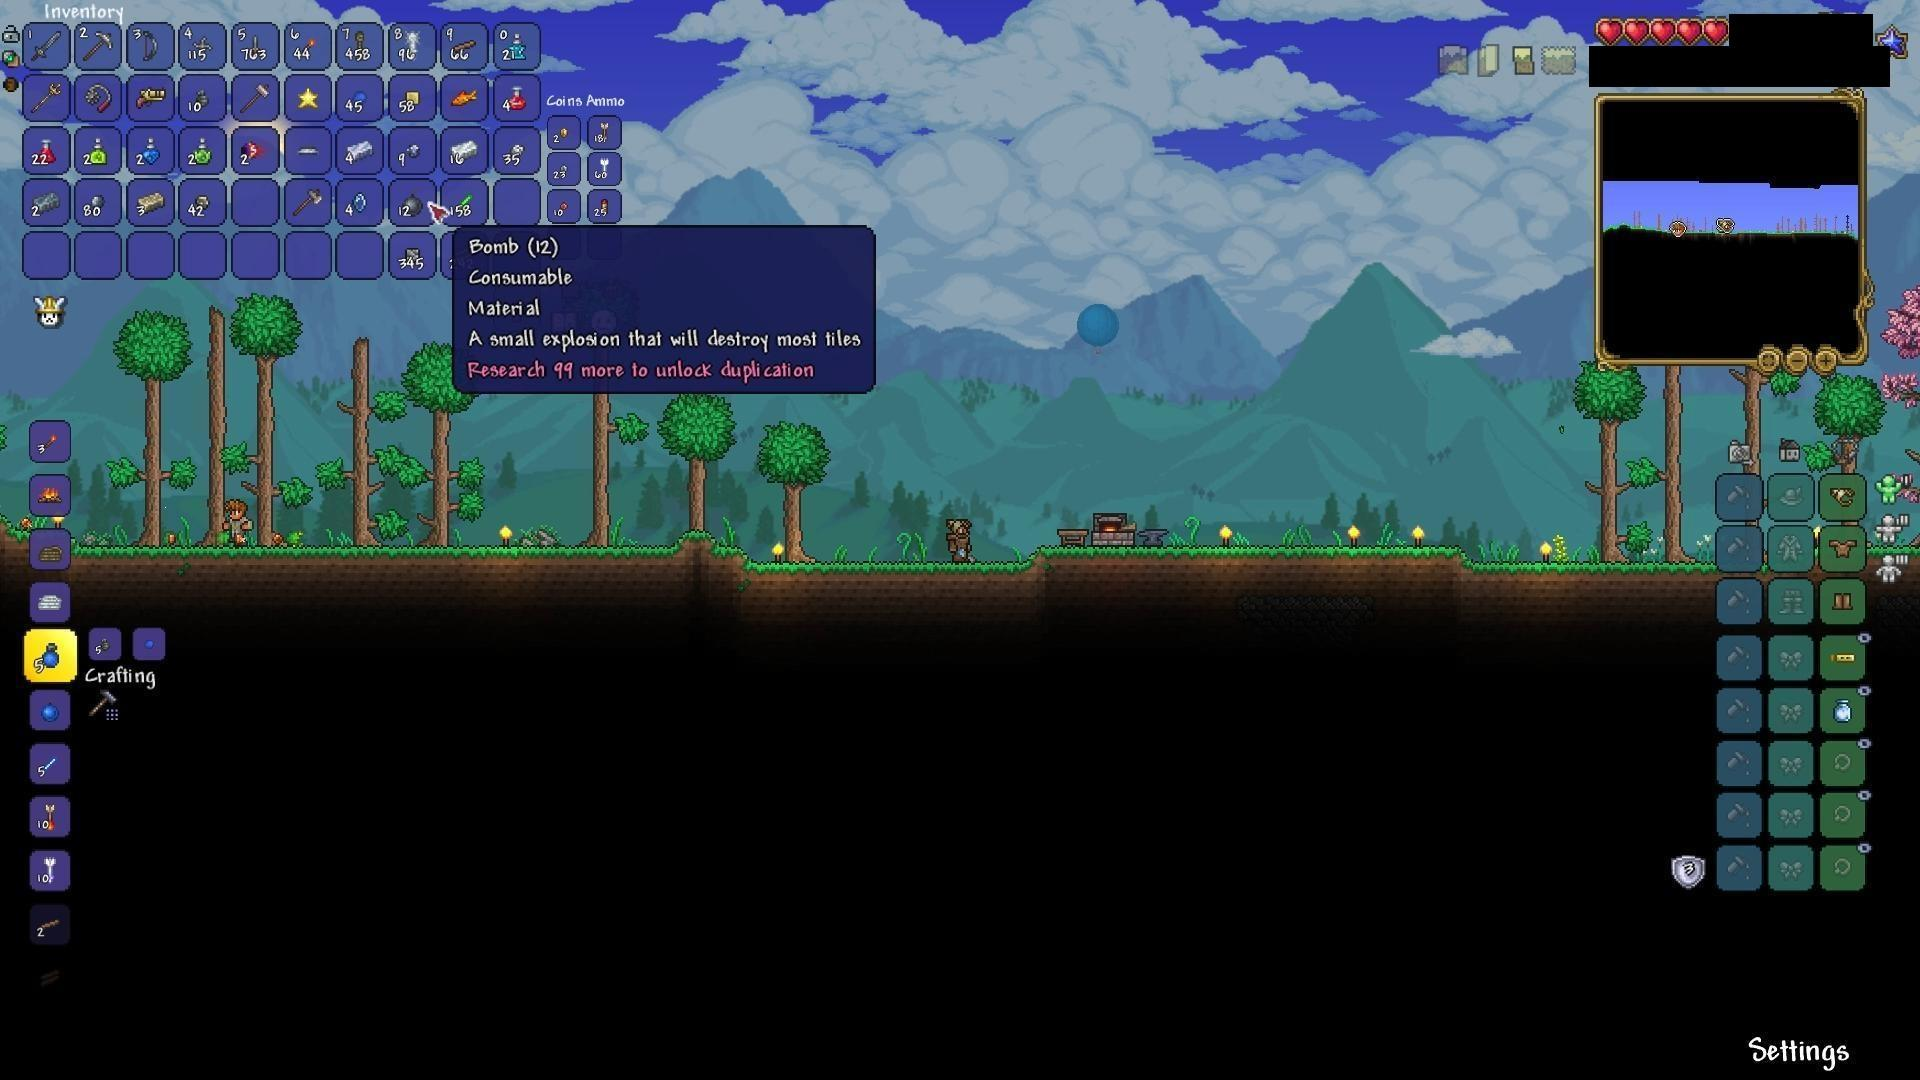dirt: (87, 542, 670, 587), (1047, 538, 1466, 596), (1453, 555, 1712, 597), (757, 555, 1029, 585), (669, 527, 760, 580)
heart: (1702, 17, 1733, 51), (1593, 16, 1626, 46), (1676, 15, 1704, 50), (1650, 16, 1676, 49), (1625, 15, 1651, 44)
tree: (239, 287, 306, 545), (1561, 364, 1636, 576), (123, 305, 175, 553), (658, 397, 731, 542), (756, 418, 820, 564), (410, 342, 455, 545), (343, 328, 384, 549), (200, 298, 229, 541), (1648, 361, 1681, 567), (585, 393, 617, 543)
